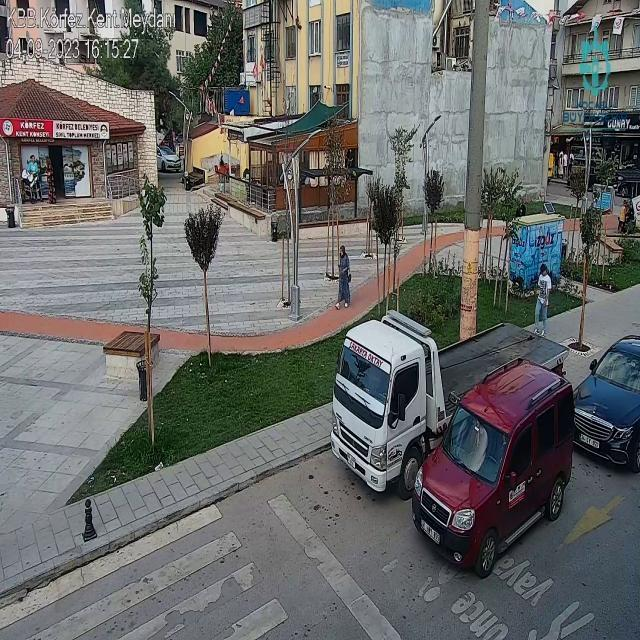Car: (572, 322, 639, 472)
Truck: (320, 302, 582, 493)
Van: (411, 363, 578, 583)
